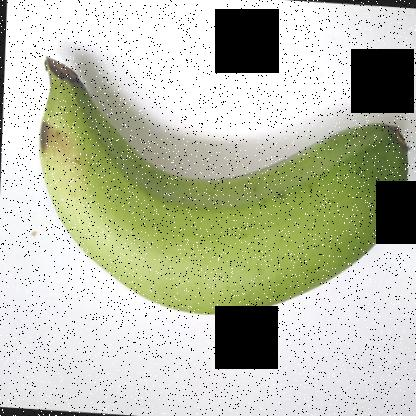freshunripe: (26, 46, 416, 335)
